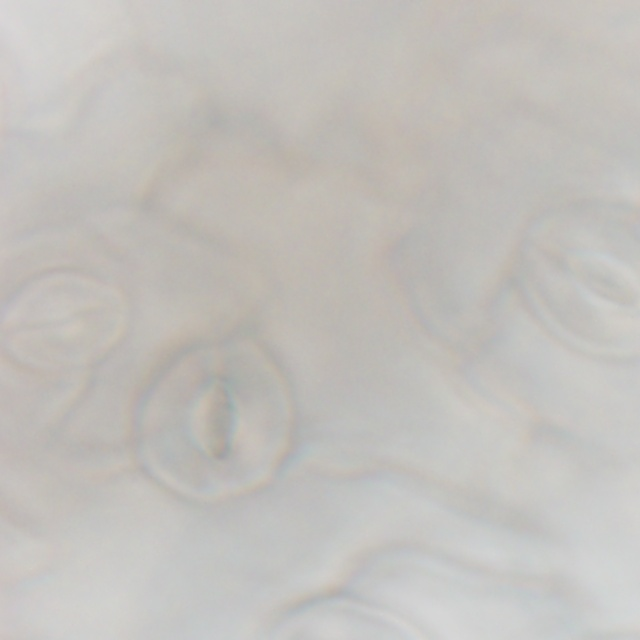center: (191, 380, 237, 460), (30, 301, 93, 330), (305, 615, 377, 622)
stomata-huw1: (138, 342, 292, 499), (518, 202, 639, 358), (2, 269, 129, 370), (262, 598, 420, 639)
